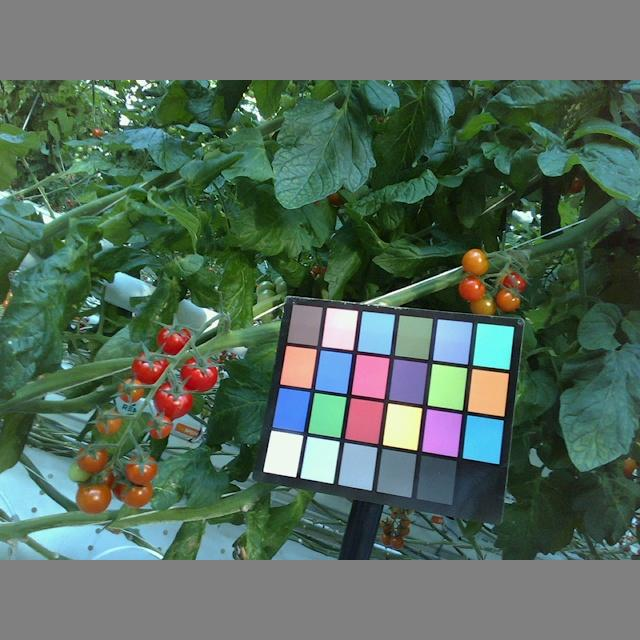pink: (121, 452, 158, 483), (120, 478, 152, 512), (75, 484, 111, 514), (76, 443, 107, 474), (461, 247, 490, 276), (94, 409, 121, 436), (142, 414, 170, 440), (459, 275, 486, 301), (118, 377, 144, 403), (471, 291, 494, 314), (496, 287, 519, 309)
red: (152, 378, 192, 419), (179, 355, 218, 395), (131, 351, 170, 386), (156, 324, 191, 356)
